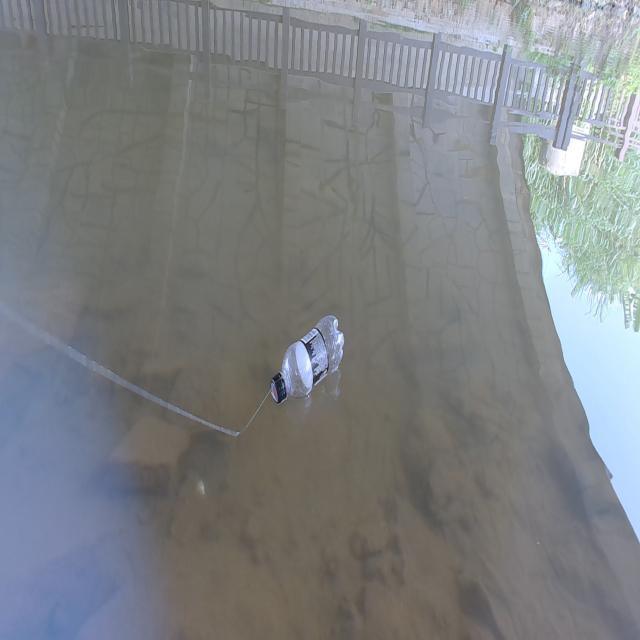bottle: (261, 289, 359, 417)
